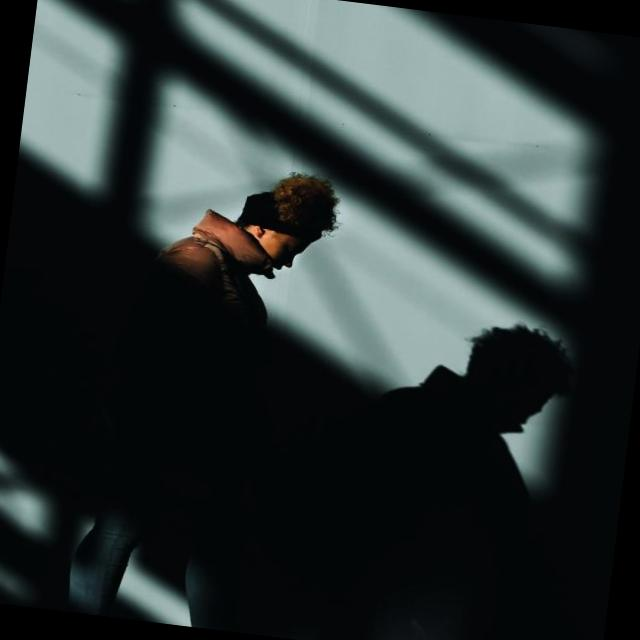person: (62, 148, 345, 638), (333, 303, 580, 640)
